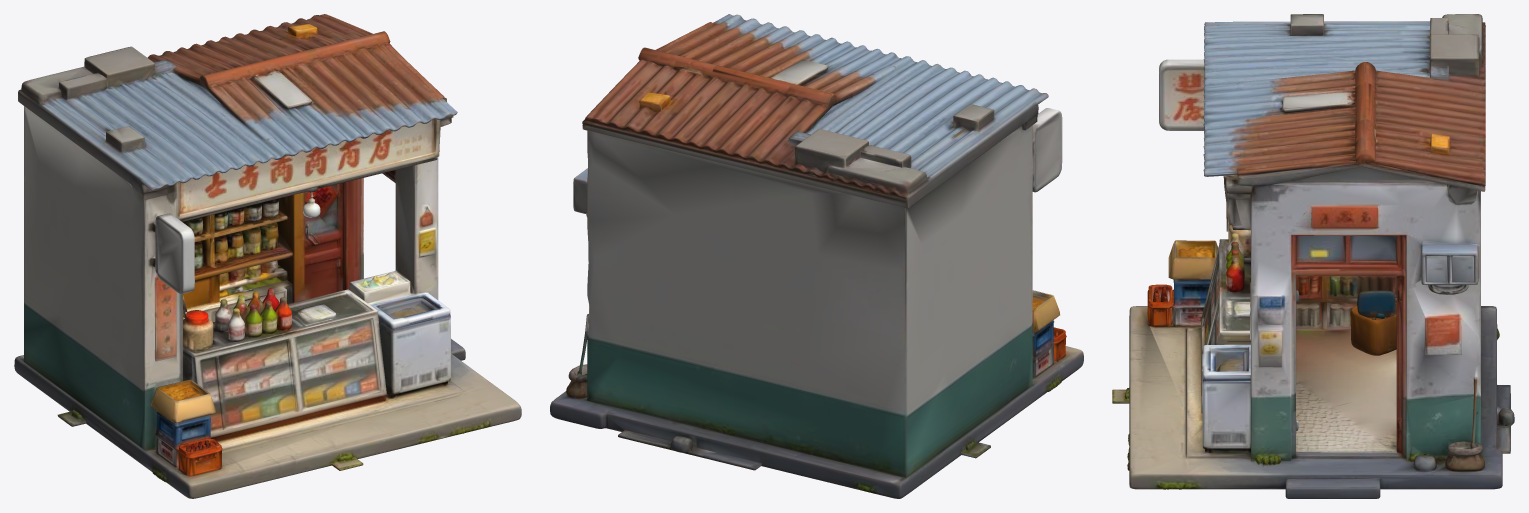
Rendered from yanjiufushidian.glb.
3 renders of one model, left to right at view 1: azimuth 30°, elevation 25°; view 2: azimuth 150°, elevation 25°; view 3: azimuth 270°, elevation 25°, orthographic. The views are drawn at different scales.
Parts seen in each view (by area): view 1: node_0; view 2: node_0; view 3: node_0.
Part boxes in pixels (x1=…): node_0: x1=14, y1=14, x2=521, y2=498; node_0: x1=550, y1=14, x2=1083, y2=498; node_0: x1=1112, y1=14, x2=1514, y2=498.
Size of the model in its own units: 0.8127 by 0.6606 by 0.7437.
1 material, 1 textured.
